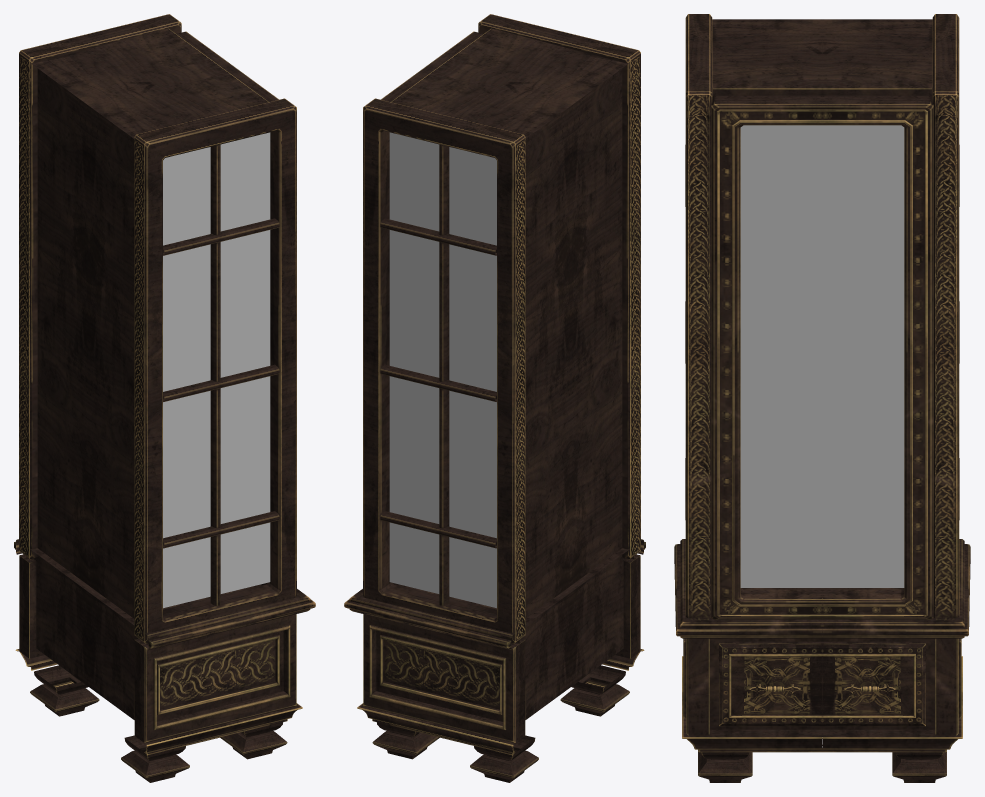
Rendered from SM_Vitrin3_Single.fbx.
3 renders of one model, left to right at view 1: azimuth 30°, elevation 25°; view 2: azimuth 150°, elevation 25°; view 3: azimuth 270°, elevation 25°, orthographic. The views are drawn at different scales.
Parts seen in each view (by area): view 1: SM_Vitrin3_Single_LOD0; view 2: SM_Vitrin3_Single_LOD0; view 3: SM_Vitrin3_Single_LOD0.
Part boxes in pixels (x1,y1,x2,y2): SM_Vitrin3_Single_LOD0: [14, 14, 315, 782]; SM_Vitrin3_Single_LOD0: [344, 14, 645, 782]; SM_Vitrin3_Single_LOD0: [674, 14, 970, 782].
Size of the model in its own units: 62.15 by 89.67 by 233.
2 materials, 1 textured.
